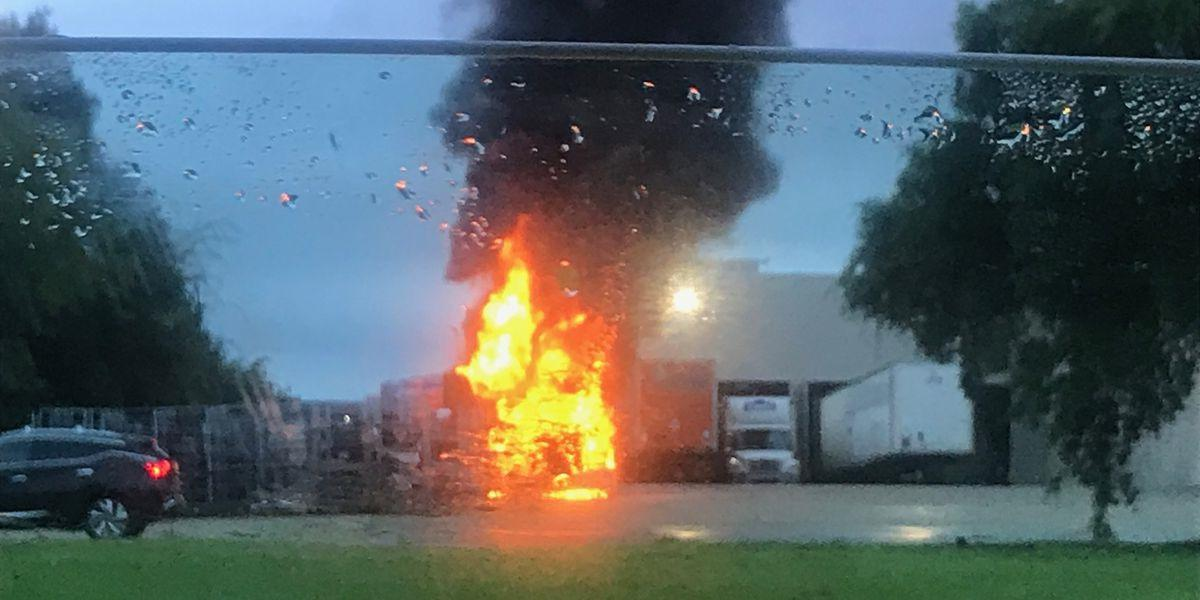Fire: (458, 259, 612, 497)
